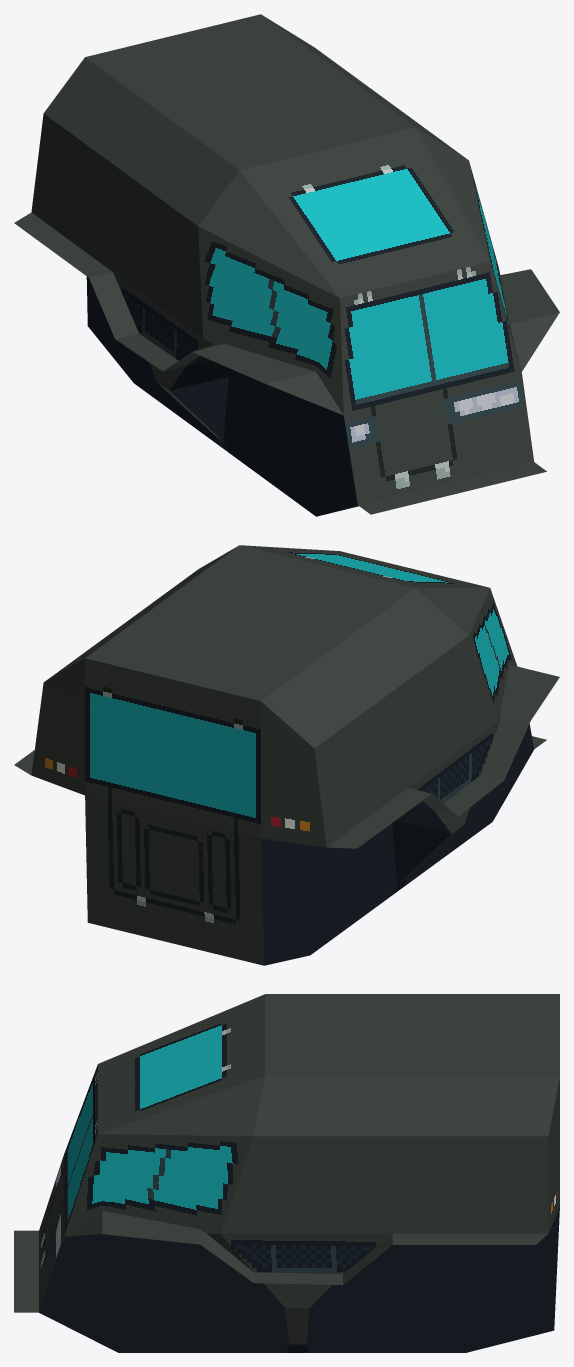
Rendered from sherp.glb.
The picture shows the model from 3 angles, top to bottom: view 1: azimuth 30°, elevation 25°; view 2: azimuth 150°, elevation 25°; view 3: azimuth 270°, elevation 25°; orthographic projection. The views are drawn at different scales.
Parts seen in each view (by area): view 1: Body; view 2: Body; view 3: Body.
Part boxes in pixels (left/top/right/bottom): Body: left=14, top=14, right=559, bottom=516; Body: left=14, top=545, right=559, bottom=965; Body: left=14, top=994, right=559, bottom=1352.
Size of the model in its own units: 2.31 by 1.87 by 3.34.
1 material, 1 textured.
